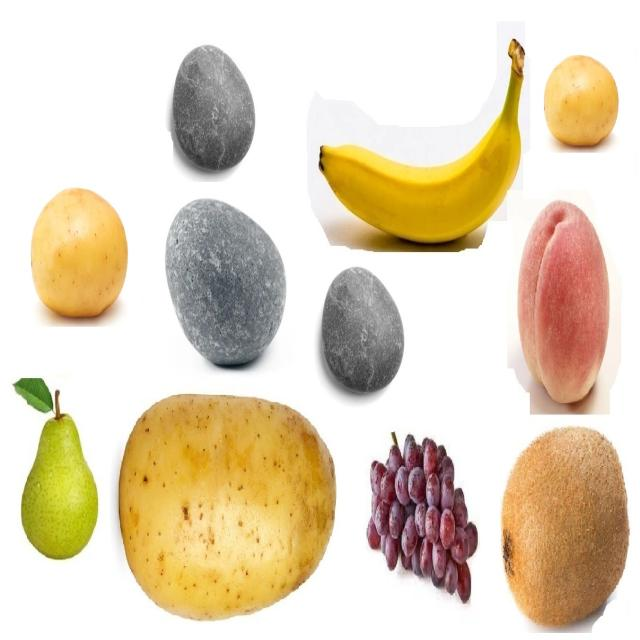potato: (120, 394, 338, 620), (30, 190, 127, 316), (544, 57, 618, 149)
